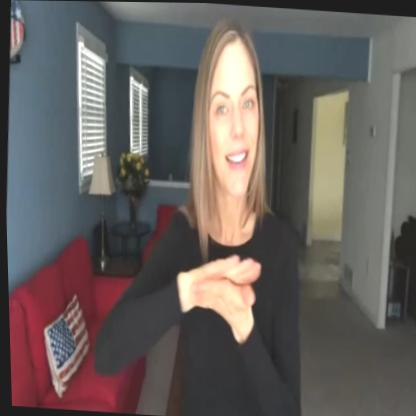NiceToMeetYou: (80, 2, 322, 416)
